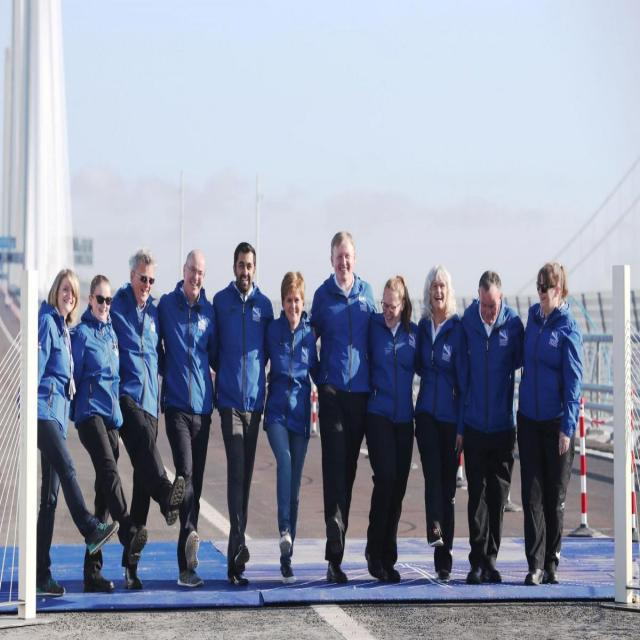body: (103, 245, 186, 596), (36, 267, 122, 600), (68, 270, 149, 596), (306, 230, 379, 584), (208, 241, 277, 588), (514, 260, 584, 586), (153, 249, 219, 593), (460, 268, 526, 585), (260, 268, 324, 586), (413, 261, 469, 584), (365, 274, 422, 586), (0, 571, 525, 603)
